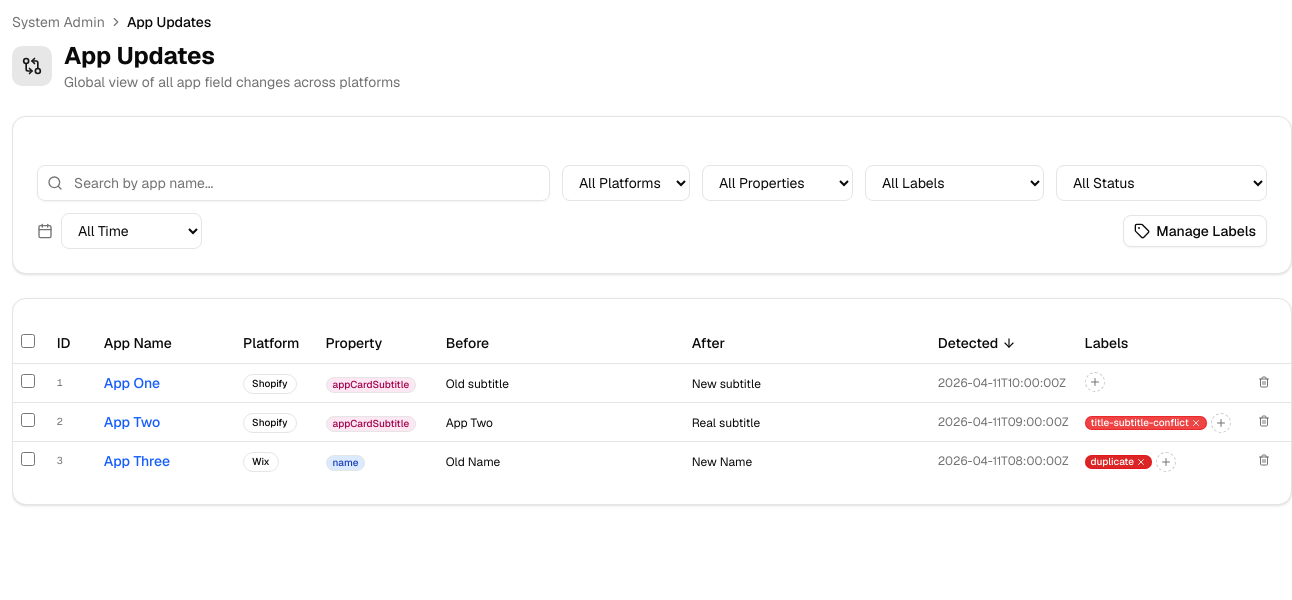
Test: AppUpdatesPage — bulk operations › select all checkbox selects all rows
Expected: the link "App One" is shown, left=104, top=374, right=160, bottom=392
Click the checkbox next to "ID".
click(28, 341)  # box left=21, top=334, right=35, bottom=348
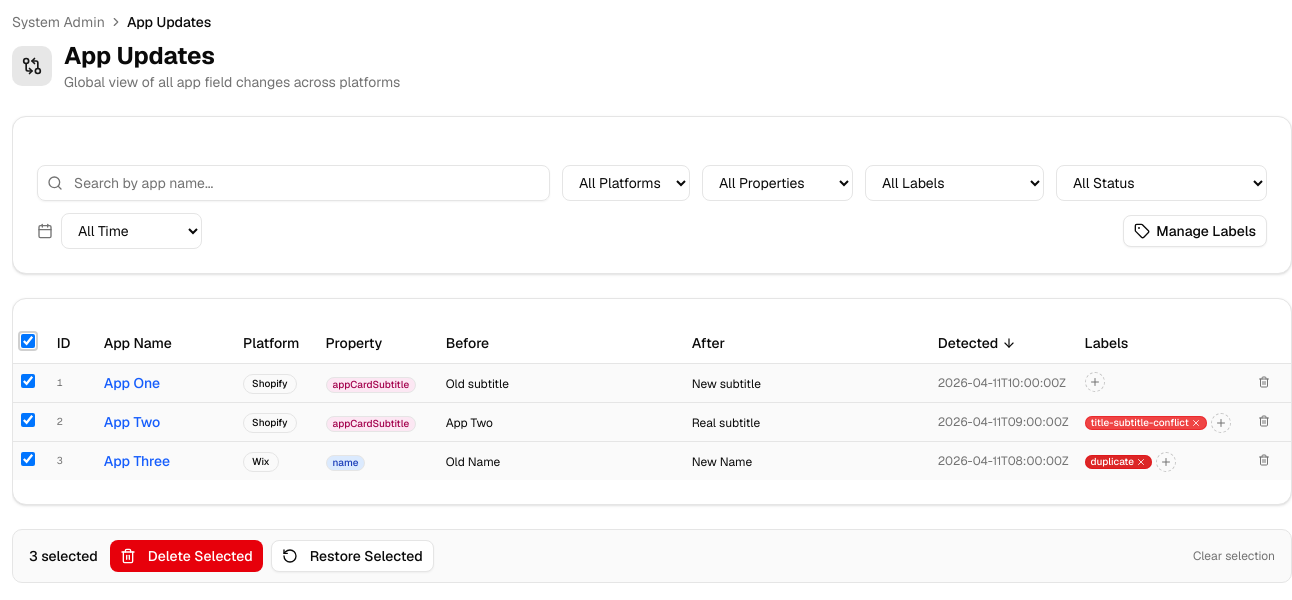
Expected: the text "3 selected" is shown, left=29, top=546, right=98, bottom=566
